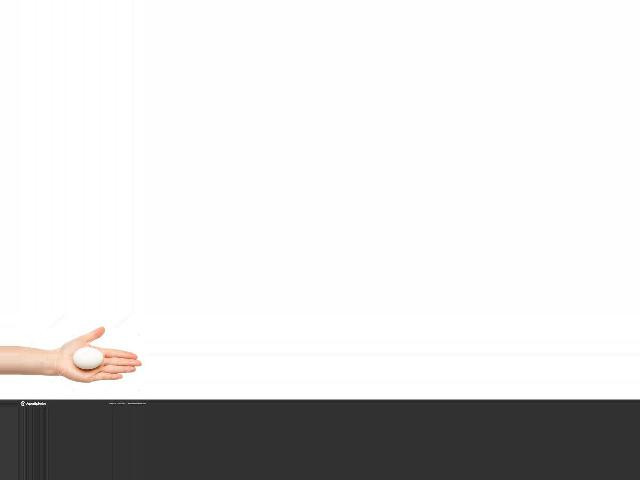egg: (73, 348, 103, 368)
